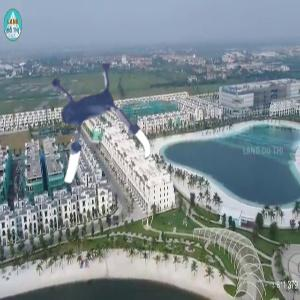drone: (19, 51, 162, 194)
